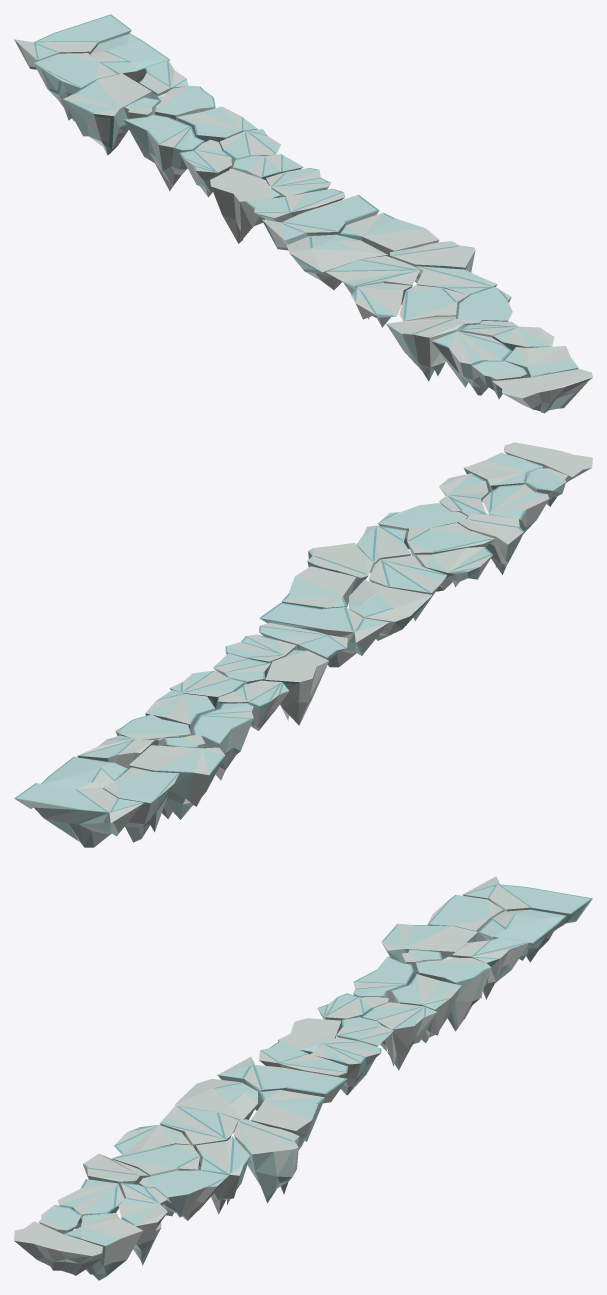
The model's file is CAMINO.fbx.
3 views of the same model, one above another, from view 1: azimuth 30°, elevation 25°; view 2: azimuth 150°, elevation 25°; view 3: azimuth 330°, elevation 25° (orthographic).
Parts seen in each view (by area): view 1: Cubo.022, Cubo.026, Cubo.034, Cubo.036, Cubo.030, Cubo.019, Cubo.045, Cubo.048, Cubo.046, Cubo.021, Cubo.035, Cubo.037 (+18 smaller); view 2: Cubo.019, Cubo.022, Cubo.034, Cubo.021, Cubo.036, Cubo.030, Cubo.026, Cubo.035, Cubo.040, Cubo.037, Cubo.046, Cubo.048 (+17 smaller); view 3: Cubo.038, Cubo.034, Cubo.045, Cubo.019, Cubo.044, Cubo.042, Cubo.024, Cubo.035, Cubo.028, Cubo.022, Cubo.020, Cubo.036 (+18 smaller).
Part boxes in pixels (x1,y1,x2,y2): Cubo.022: [63, 73, 151, 155]; Cubo.026: [124, 114, 204, 191]; Cubo.034: [262, 194, 379, 250]; Cubo.036: [286, 234, 387, 289]; Cubo.030: [210, 168, 280, 243]; Cubo.019: [14, 14, 131, 69]; Cubo.045: [492, 369, 592, 413]; Cubo.048: [386, 316, 464, 381]; Cubo.046: [431, 331, 511, 395]; Cubo.021: [33, 53, 117, 121]; Cubo.035: [340, 212, 439, 257]; Cubo.037: [326, 256, 420, 327]; Cubo.019: [14, 783, 143, 847]; Cubo.022: [129, 745, 225, 819]; Cubo.034: [259, 602, 389, 667]; Cubo.021: [104, 767, 179, 842]; Cubo.036: [349, 580, 432, 640]; Cubo.030: [265, 650, 328, 725]; Cubo.026: [193, 703, 253, 780]; Cubo.035: [281, 566, 356, 608]; Cubo.040: [407, 522, 494, 591]; Cubo.037: [368, 555, 446, 625]; Cubo.046: [482, 484, 549, 534]; Cubo.048: [458, 512, 523, 574]; Cubo.038: [233, 1119, 299, 1202]; Cubo.034: [217, 1057, 347, 1110]; Cubo.045: [14, 1221, 102, 1275]; Cubo.019: [462, 876, 592, 931]; Cubo.044: [64, 1213, 143, 1280]; Cubo.042: [139, 1170, 228, 1220]; Cubo.024: [416, 956, 491, 1031]; Cubo.035: [250, 1090, 325, 1149]; Cubo.028: [362, 1002, 437, 1070]; Cubo.022: [381, 923, 477, 984]; Cubo.020: [479, 909, 566, 962]; Cubo.036: [174, 1079, 257, 1133].
Bounding box in the file's own units: 306 × 119 × 1681.
